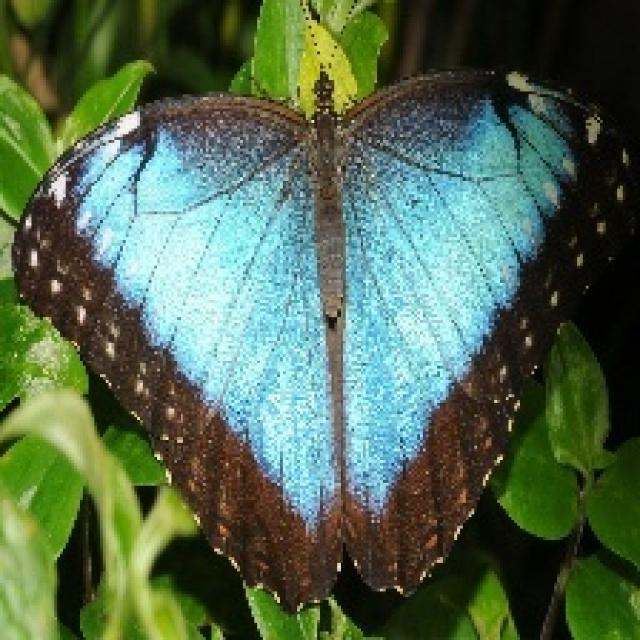butterfly: (9, 57, 637, 612)
